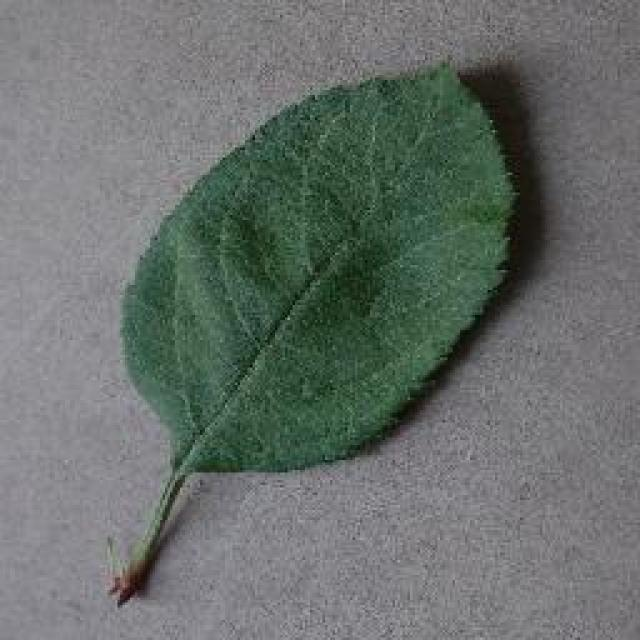apple healthy: (102, 55, 522, 605)
